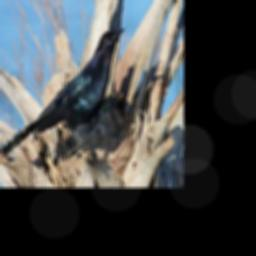Crow: (0, 27, 125, 167)
